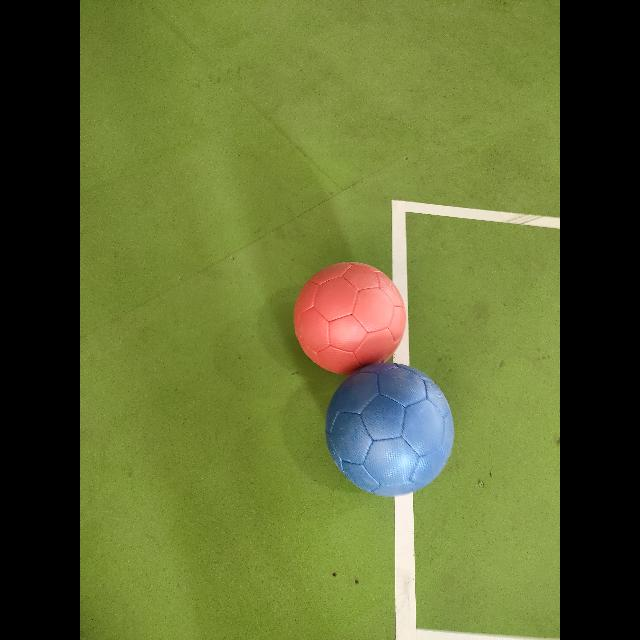B: (326, 362, 454, 496)
R: (294, 262, 406, 374)
